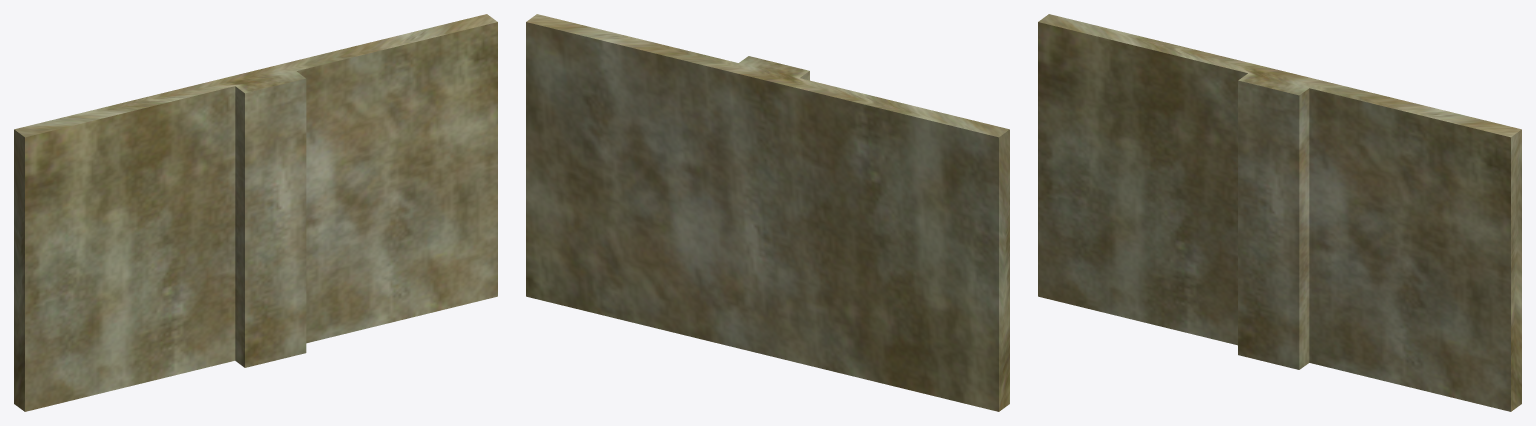
Rendered from WallBig.fbx.
The picture shows the model from 3 angles, left to right: view 1: azimuth 30°, elevation 25°; view 2: azimuth 150°, elevation 25°; view 3: azimuth 330°, elevation 25°; orthographic projection.
Visible parts, largest first — view 1: Wall2UnitEmpty; view 2: Wall2UnitEmpty; view 3: Wall2UnitEmpty.
Part boxes in pixels (x1,y1,x2,y2): Wall2UnitEmpty: (14,14,497,411); Wall2UnitEmpty: (526,14,1009,411); Wall2UnitEmpty: (1038,14,1521,411).
Size of the model in its own units: 499 by 277 by 38.22.
